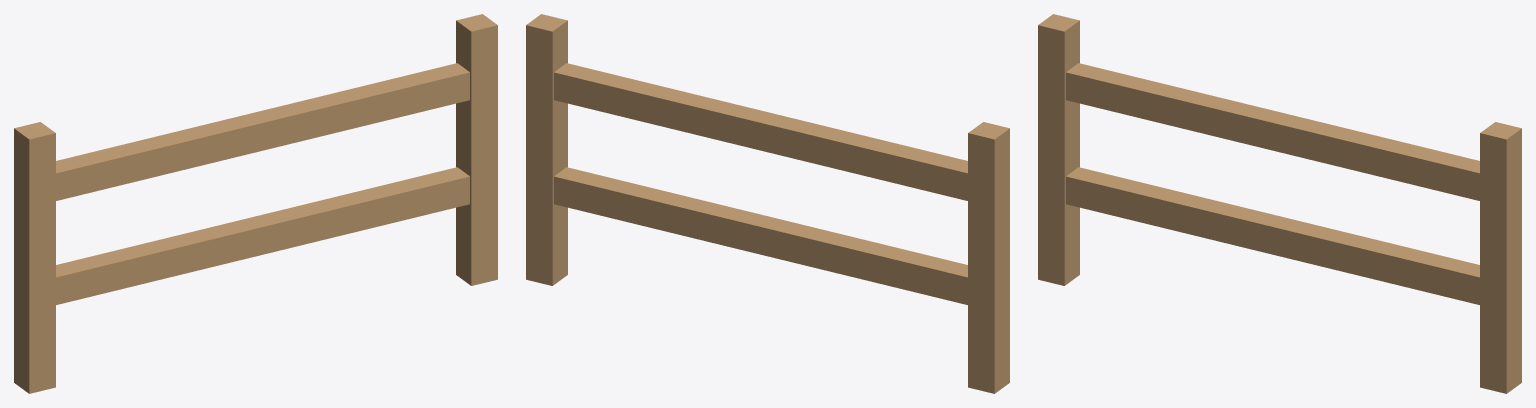
Rendered from cozy-farm-and-homestead-split-rail-fence-08048406__19376.glb.
3 renders of one model, left to right at view 1: azimuth 30°, elevation 25°; view 2: azimuth 150°, elevation 25°; view 3: azimuth 330°, elevation 25°, orthographic.
Parts seen in each view (by area): view 1: split-rail-fence; view 2: split-rail-fence; view 3: split-rail-fence.
Part boxes in pixels (x1=…): split-rail-fence: x1=14, y1=14, x2=497, y2=393; split-rail-fence: x1=526, y1=14, x2=1009, y2=393; split-rail-fence: x1=1038, y1=14, x2=1521, y2=393.
Bounding box in the file's own units: 2.12 × 1.1 × 0.1201.
